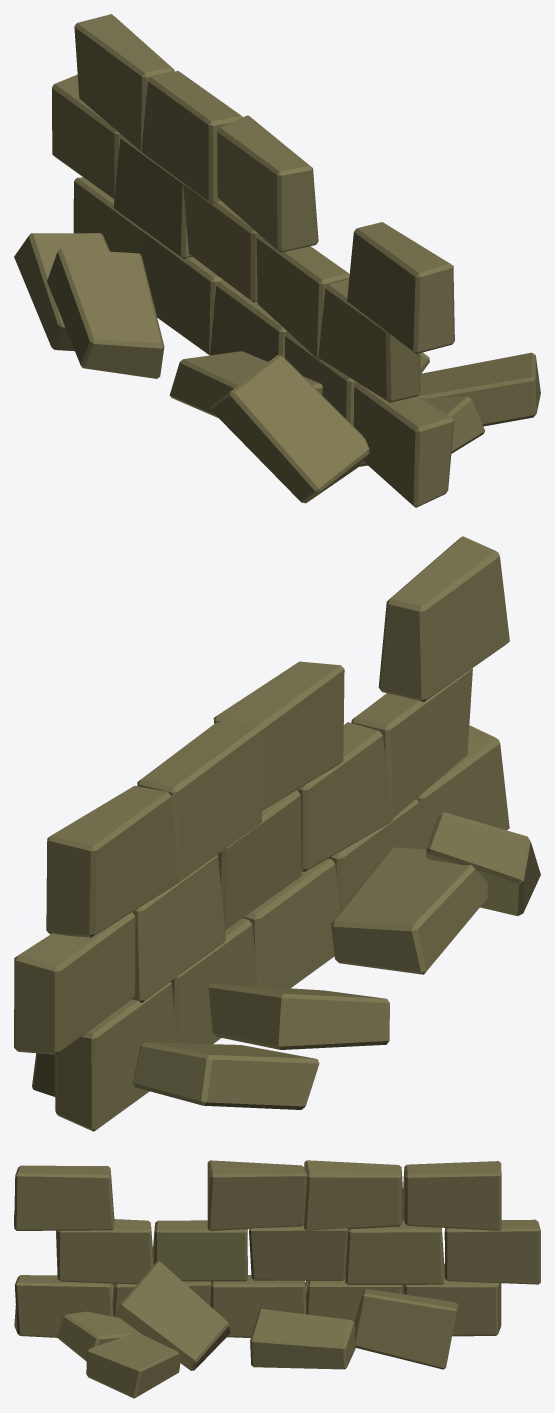
The model's file is BrickWall-Sandstone-Crumbled.fbx.
The picture shows the model from 3 angles, top to bottom: view 1: azimuth 30°, elevation 25°; view 2: azimuth 150°, elevation 25°; view 3: azimuth 270°, elevation 25°; orthographic projection. The views are drawn at different scales.
Parts seen in each view (by area): view 1: Sandstone Crumbled Wall; view 2: Sandstone Crumbled Wall; view 3: Sandstone Crumbled Wall.
Part boxes in pixels (x1,y1,x2,y2): Sandstone Crumbled Wall: [14, 14, 540, 507]; Sandstone Crumbled Wall: [14, 536, 540, 1131]; Sandstone Crumbled Wall: [14, 1160, 540, 1398].
Bounding box in the file's own units: 443 × 341 × 872.
